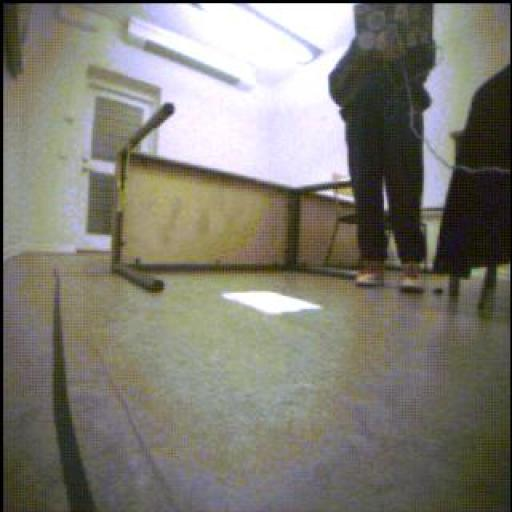Pad: (224, 292, 323, 316)
